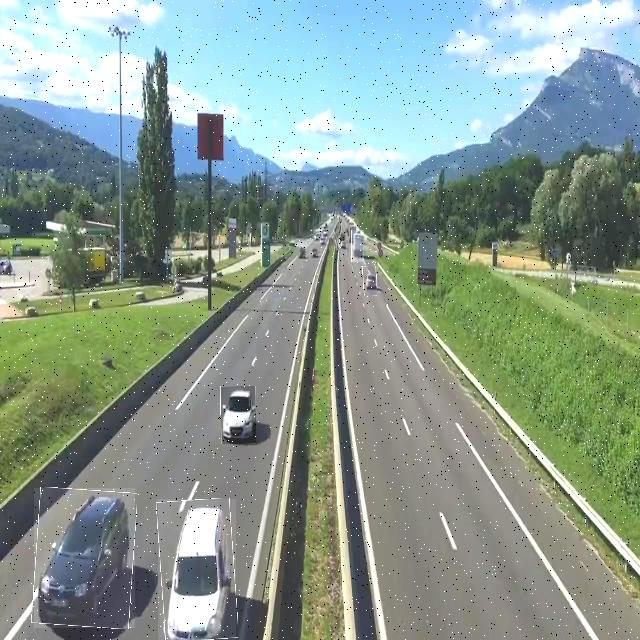Car: (34, 488, 135, 628), (158, 499, 236, 640), (221, 386, 256, 444), (362, 266, 377, 296)
Truck: (351, 230, 364, 262)
